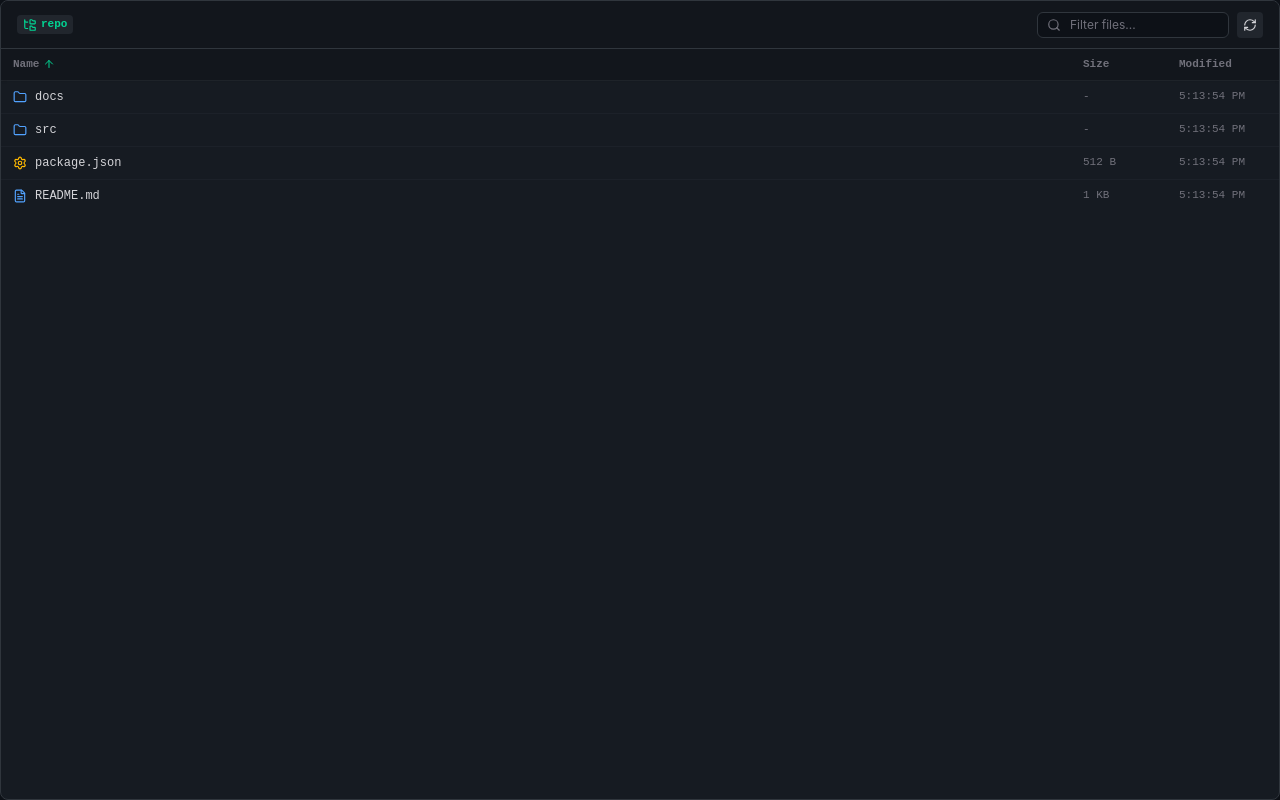
it: FileBrowser Component › filters file list by search input
This screenshot has width=1280, height=800.
Check: the text "package.json" is shown, box [35,155,121,171]
Type "READ" into the field with test id "file-search-input". click: (1133, 25)
box: [1037,12,1229,38]
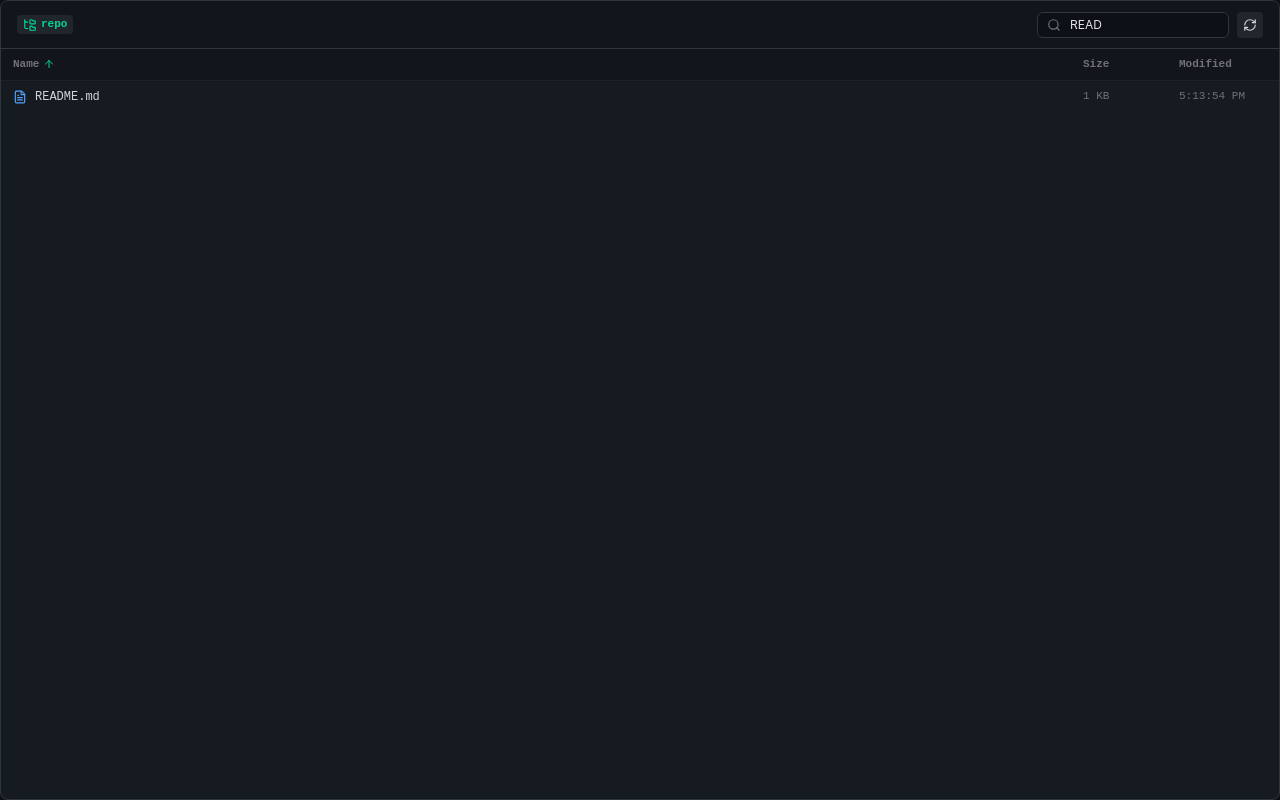
Check: the text "README.md" is shown, box [35,89,100,105]
Check: the text "package.json" is gone
